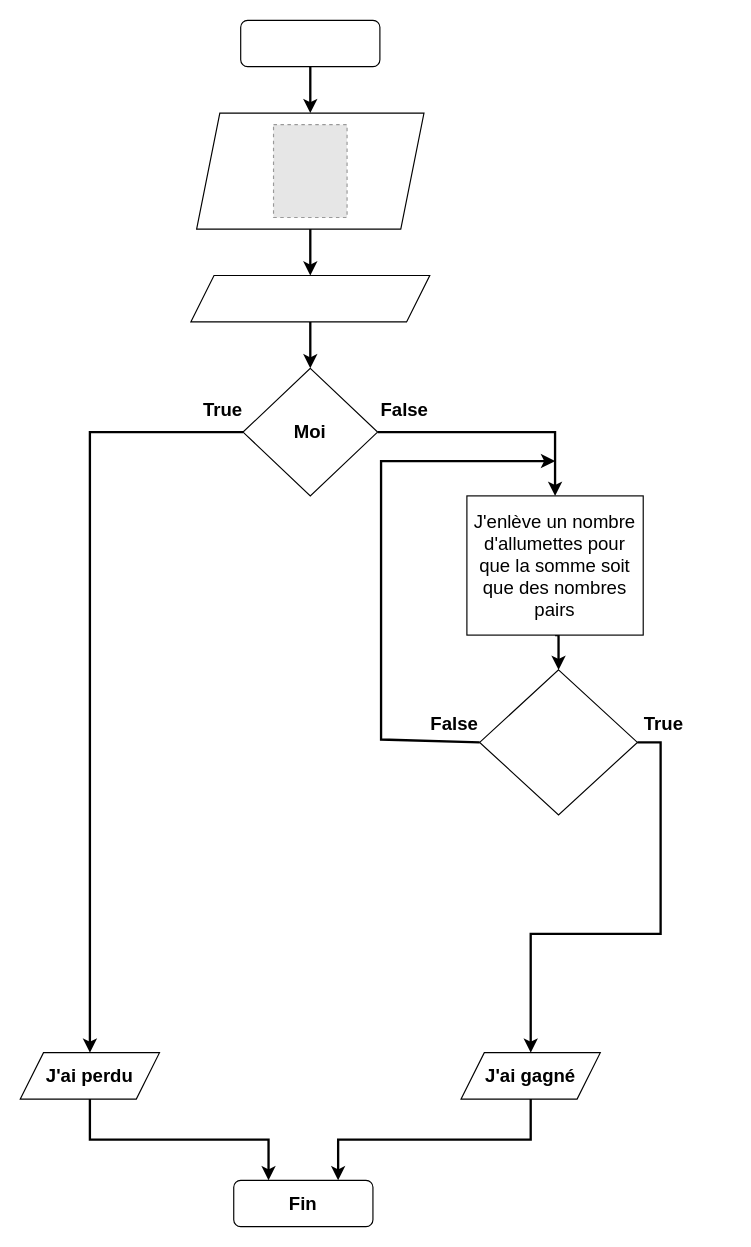
Some shapes in this 751 by 1247 pixel diagram are drawn without their labels. Grey dashed boxes stand in for pictures. The centre of each missing label's shape, as x and y in pixels:
"Dernière allumette" belongs at pixel 557 742.
"Début" belongs at pixel 310 43.
"Qui commence ?" belongs at pixel 310 298.
